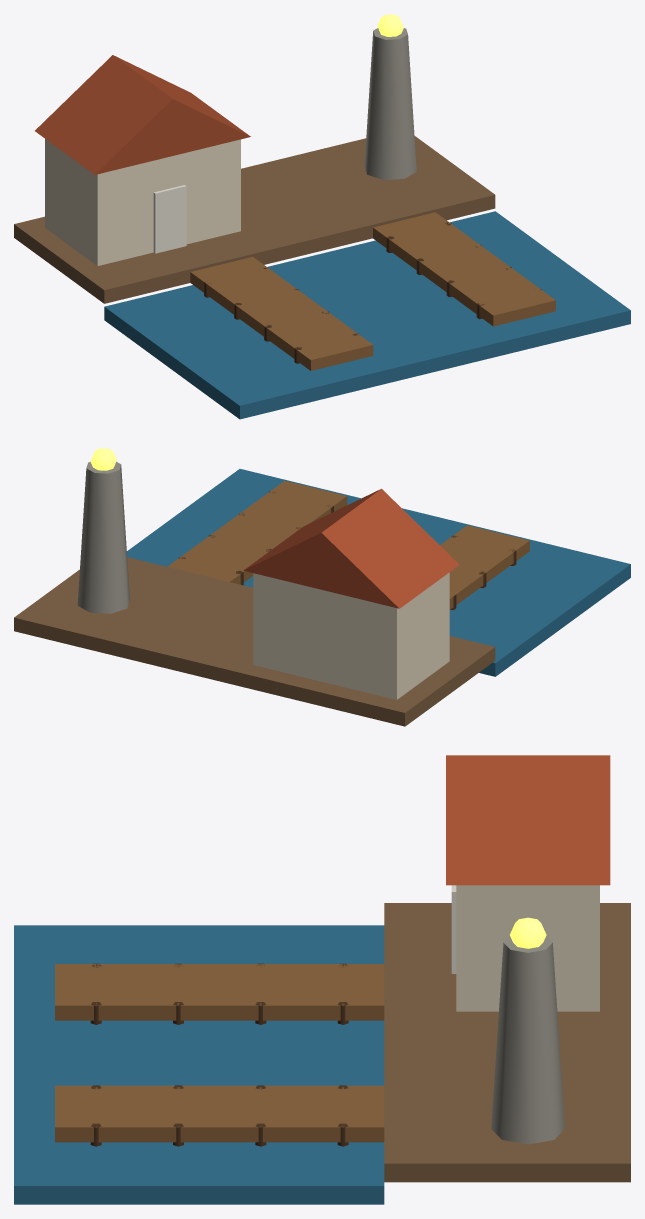
The model's file is bld_special_port_a02_lod1.glb.
The picture shows the model from 3 angles, top to bottom: view 1: azimuth 30°, elevation 25°; view 2: azimuth 150°, elevation 25°; view 3: azimuth 270°, elevation 25°; orthographic projection. The views are drawn at different scales.
Parts seen in each view (by area): view 1: body; view 2: body; view 3: body.
Boxes of the visible parts, x1,y1,x2,y2 form: body: [14, 14, 630, 419]; body: [14, 448, 630, 726]; body: [14, 755, 630, 1204].
Size of the model in its own units: 15 by 7.05 by 15.
